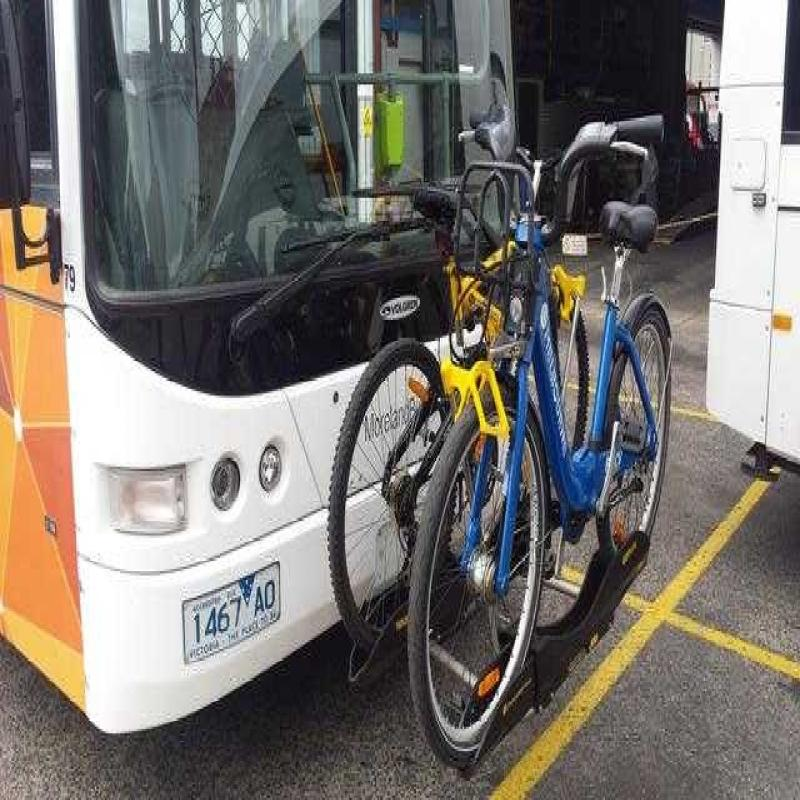bus: (14, 11, 551, 719)
